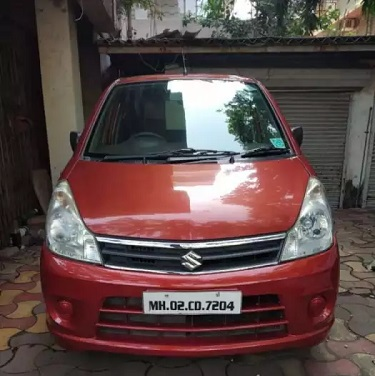licenseplate: (142, 291, 243, 315)
